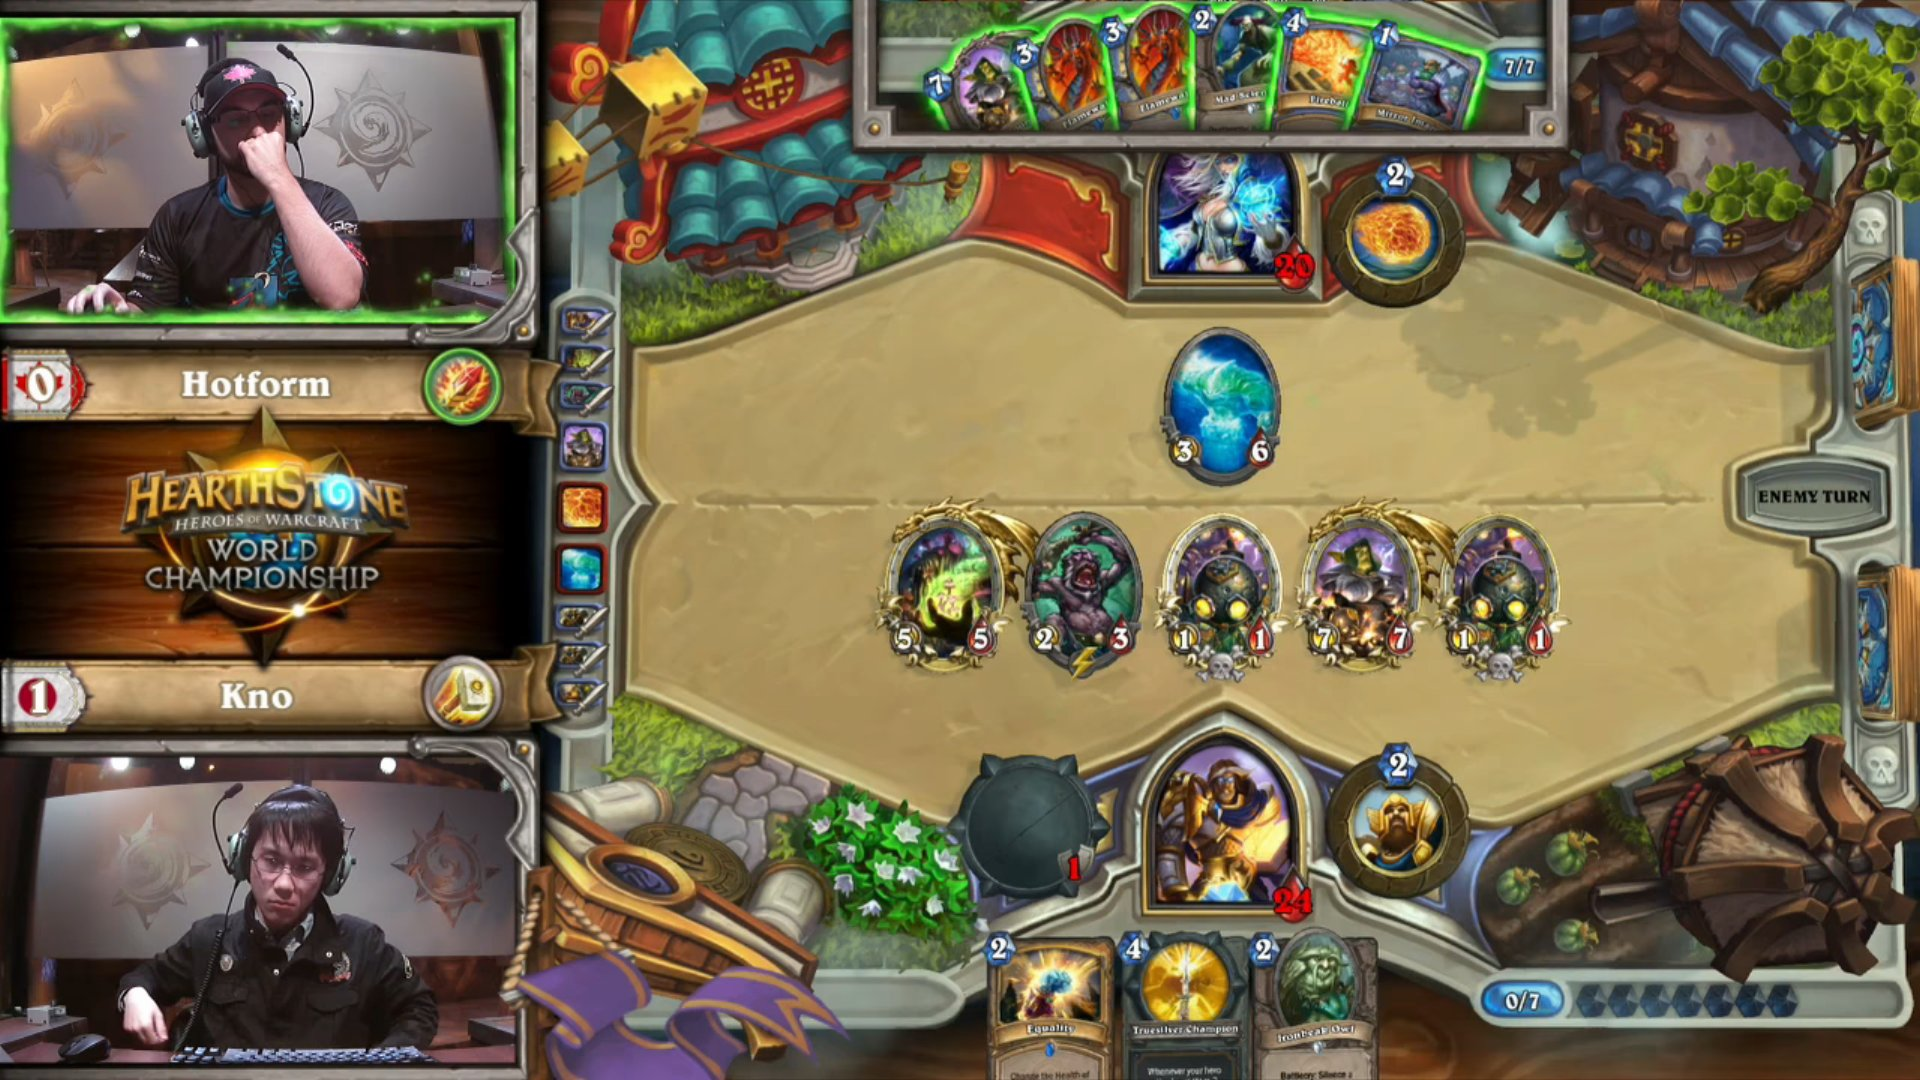card: (1249, 930, 1387, 1080), (982, 930, 1120, 1080), (1116, 930, 1253, 1080), (1348, 18, 1480, 135), (1269, 3, 1375, 138), (1182, 1, 1287, 137), (1010, 18, 1116, 133), (1101, 8, 1191, 138), (923, 30, 1033, 135)
